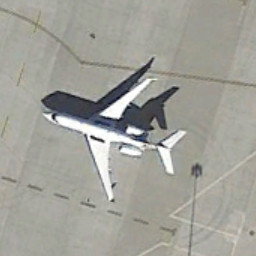Airplane: (38, 69, 189, 208)
